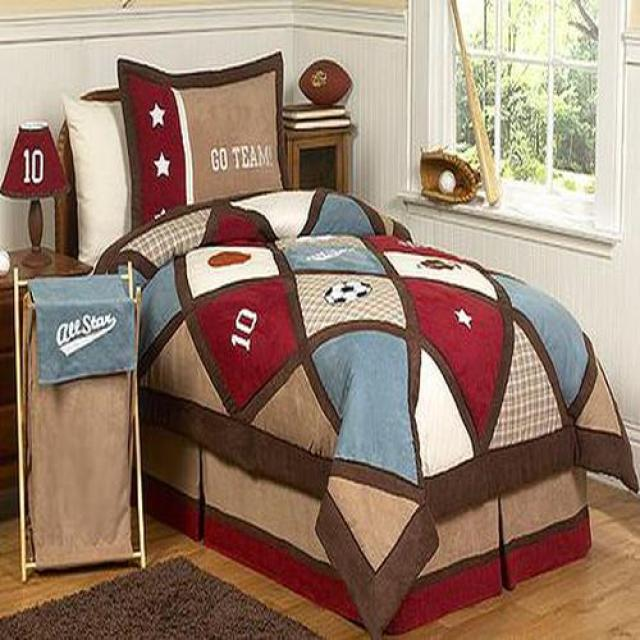bed: (61, 54, 640, 640)
